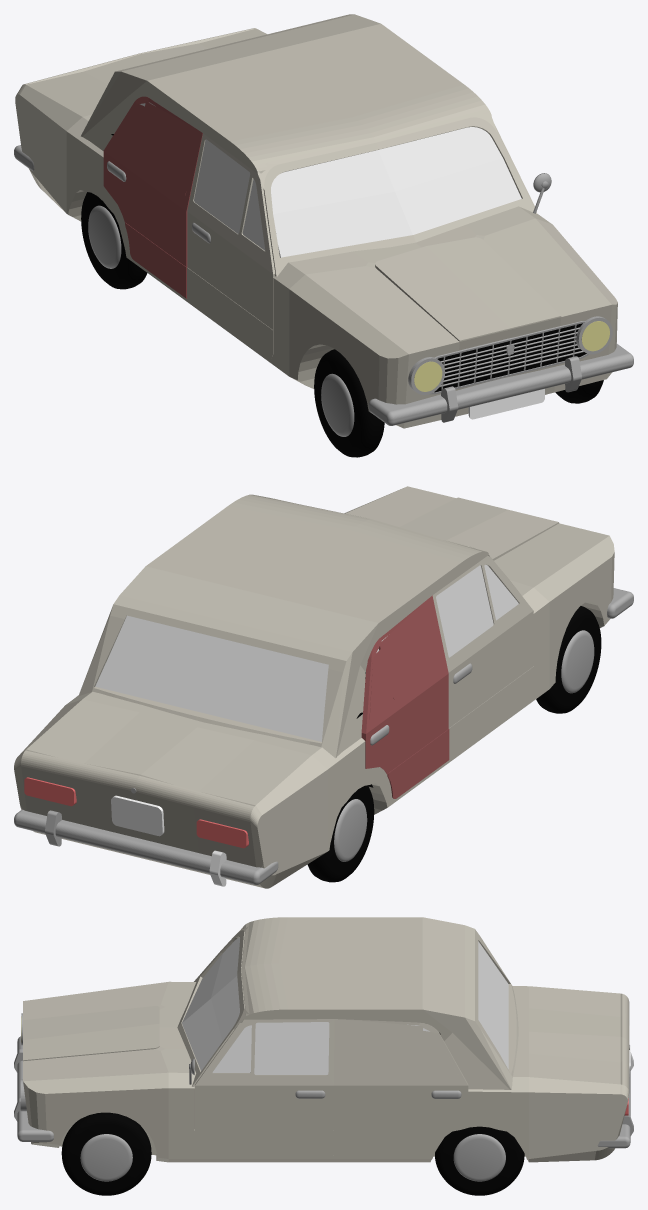
File: Car.fbx
The picture shows the model from 3 angles, top to bottom: view 1: azimuth 30°, elevation 25°; view 2: azimuth 150°, elevation 25°; view 3: azimuth 270°, elevation 25°; orthographic projection. The views are drawn at different scales.
Visible parts, largest first — view 1: Cube, Cube.006, Cube.009, Cube.007, Cube.003, Cube.011, Cube.001, Cylinder.006, Cube.031, Cylinder.010, Cylinder.004, Cylinder.005 (+6 smaller); view 2: Cube, Cube.006, Cube.035, Cube.007, Cube.003, Cube.017, Cube.031, Cylinder.006, Cylinder.004, Cube.018, Cylinder.007, Cylinder.005 (+3 smaller); view 3: Cube, Cube.006, Cube.004, Cube.002, Cube.009, Cylinder, Cube.032, Cylinder.002, Cube.035, Cylinder.001, Cylinder.003, Cube.033 (+2 smaller).
Part boxes in pixels (<box>): Cube: <box>15,28,617,428</box>; Cube.006: <box>81,14,536,277</box>; Cube.009: <box>271,127,521,257</box>; Cube.007: <box>103,96,202,298</box>; Cube.003: <box>187,133,275,358</box>; Cube.011: <box>368,343,633,425</box>; Cube.001: <box>430,321,588,394</box>; Cylinder.006: <box>314,349,384,457</box>; Cube.031: <box>194,139,250,233</box>; Cylinder.010: <box>440,327,583,386</box>; Cylinder.004: <box>81,192,147,289</box>; Cylinder.005: <box>88,205,121,268</box>; Cube: <box>14,486,614,888</box>; Cube.006: <box>78,494,524,758</box>; Cube.035: <box>95,615,328,741</box>; Cube.007: <box>361,595,449,798</box>; Cube.003: <box>432,555,533,758</box>; Cube.017: <box>14,809,278,885</box>; Cube.031: <box>436,565,493,657</box>; Cylinder.006: <box>536,606,601,713</box>; Cylinder.004: <box>307,785,374,882</box>; Cube.018: <box>111,795,164,836</box>; Cylinder.007: <box>561,630,594,693</box>; Cylinder.005: <box>334,799,367,861</box>; Cube: <box>23,981,629,1162</box>; Cube.006: <box>177,917,518,1089</box>; Cube.004: <box>333,1019,468,1156</box>; Cube.002: <box>194,1019,334,1155</box>; Cube.009: <box>182,937,239,1070</box>; Cylinder: <box>61,1112,151,1195</box>; Cube.032: <box>254,1022,329,1074</box>; Cylinder.002: <box>435,1126,524,1195</box>; Cube.035: <box>478,941,508,1069</box>; Cylinder.001: <box>80,1134,132,1181</box>; Cylinder.003: <box>453,1134,505,1181</box>; Cube.033: <box>212,1025,251,1072</box>.
Size of the model in its own units: 482 by 379 by 1140.
